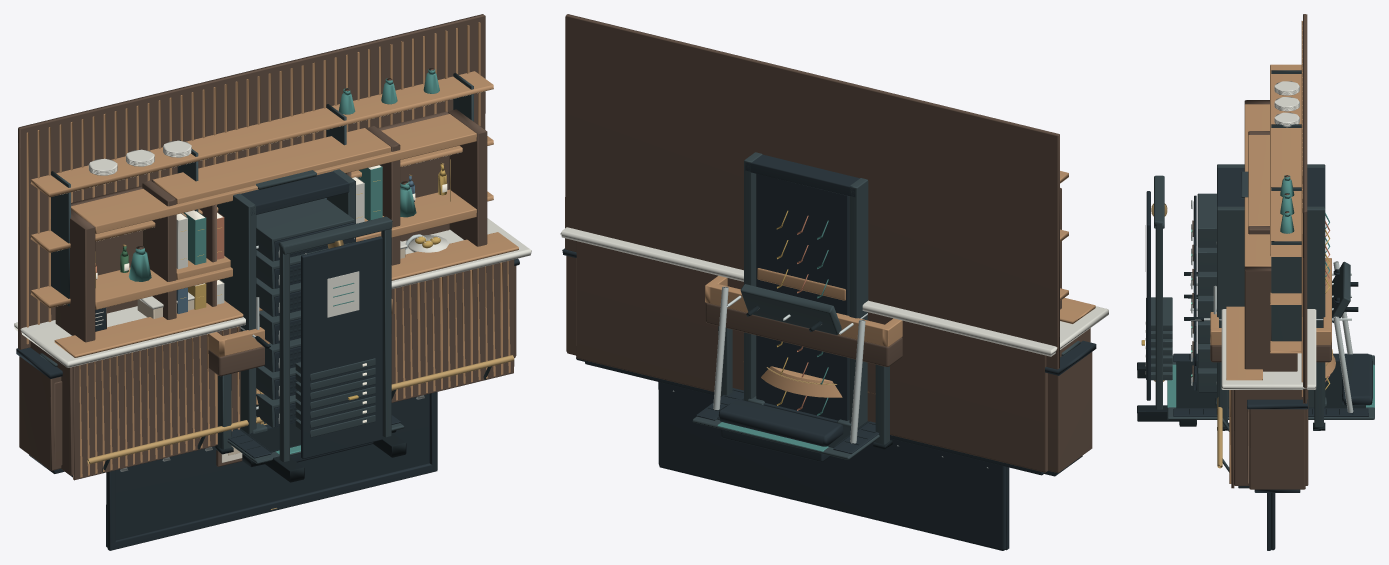
The model's file is interior-library.glb.
3 renders of one model, left to right at view 1: azimuth 30°, elevation 25°; view 2: azimuth 150°, elevation 25°; view 3: azimuth 270°, elevation 25°, orthographic. The views are drawn at different scales.
Visible parts, largest first — view 1: bar-back / Oiled walnut, bar-counter / Oiled walnut, tv-housing / Graphite polymer, bar-back / Honey oak, bar-counter / Honey oak, cable-tower / Graphite polymer, server-rack / Graphite alloy, display-cabinet / Oiled walnut, display-cabinet / Honey oak, bookshelf / Honey oak, cable-tower / Graphite alloy, bar-counter / Warm ivory powdercoat (+19 smaller); view 2: bar-back / Oiled walnut, bar-counter / Oiled walnut, tv-housing / Graphite polymer, server-rack / Graphite polymer, server-rack / Graphite alloy, bar-counter / Warm ivory powdercoat, treadmill-frame / Graphite polymer, foosball-table / Oiled walnut, treadmill-frame / Graphite alloy, foosball-table / Honey oak, treadmill-frame / Porcelain keycaps, foosball-table / Graphite alloy (+5 smaller); view 3: server-rack / Graphite alloy, bar-back / Oiled walnut, bar-back / Honey oak, display-cabinet / Oiled walnut, bar-back / Graphite alloy, bar-counter / Oiled walnut, treadmill-frame / Graphite polymer, bar-counter / Warm ivory powdercoat, server-rack / Graphite polymer, cable-tower / Graphite alloy, treadmill-belt / Soft black rubber, bookshelf / Honey oak (+19 smaller).
Part boxes in pixels (x1,y1,x2,y2): bar-back / Oiled walnut: (18, 14, 516, 470); bar-counter / Oiled walnut: (30, 259, 514, 480); tv-housing / Graphite polymer: (106, 392, 437, 550); bar-back / Honey oak: (26, 22, 493, 344); bar-counter / Honey oak: (54, 232, 518, 477); cable-tower / Graphite polymer: (301, 236, 382, 458); server-rack / Graphite alloy: (217, 169, 355, 434); display-cabinet / Oiled walnut: (55, 109, 487, 342); display-cabinet / Honey oak: (71, 114, 476, 309); bookshelf / Honey oak: (156, 130, 390, 279); cable-tower / Graphite alloy: (278, 216, 392, 461); bar-counter / Warm ivory powdercoat: (14, 218, 531, 367); bar-back / Oiled walnut: (565, 14, 1092, 472); bar-counter / Oiled walnut: (576, 241, 1090, 472); tv-housing / Graphite polymer: (658, 382, 1009, 550); server-rack / Graphite polymer: (745, 154, 859, 422); server-rack / Graphite alloy: (744, 152, 868, 427); bar-counter / Warm ivory powdercoat: (560, 227, 1108, 356); treadmill-frame / Graphite polymer: (696, 388, 879, 454); foosball-table / Oiled walnut: (705, 303, 902, 366); treadmill-frame / Graphite alloy: (692, 284, 879, 459); foosball-table / Honey oak: (705, 275, 902, 346); treadmill-frame / Porcelain keycaps: (713, 286, 865, 443); foosball-table / Graphite alloy: (718, 326, 889, 444); server-rack / Graphite alloy: (1197, 164, 1325, 407); bar-back / Oiled walnut: (1247, 14, 1307, 489); bar-back / Honey oak: (1270, 21, 1302, 396); display-cabinet / Oiled walnut: (1244, 100, 1297, 371); bar-back / Graphite alloy: (1271, 70, 1301, 341); bar-counter / Oiled walnut: (1231, 390, 1308, 488); treadmill-frame / Graphite polymer: (1173, 269, 1372, 416); bar-counter / Warm ivory powdercoat: (1221, 309, 1316, 389); server-rack / Graphite polymer: (1194, 167, 1325, 390); cable-tower / Graphite alloy: (1154, 175, 1164, 409); treadmill-belt / Soft black rubber: (1176, 361, 1365, 408); bookshelf / Honey oak: (1248, 135, 1269, 226).
Size of the model in its own units: 4.43 by 3.83 by 2.24.
